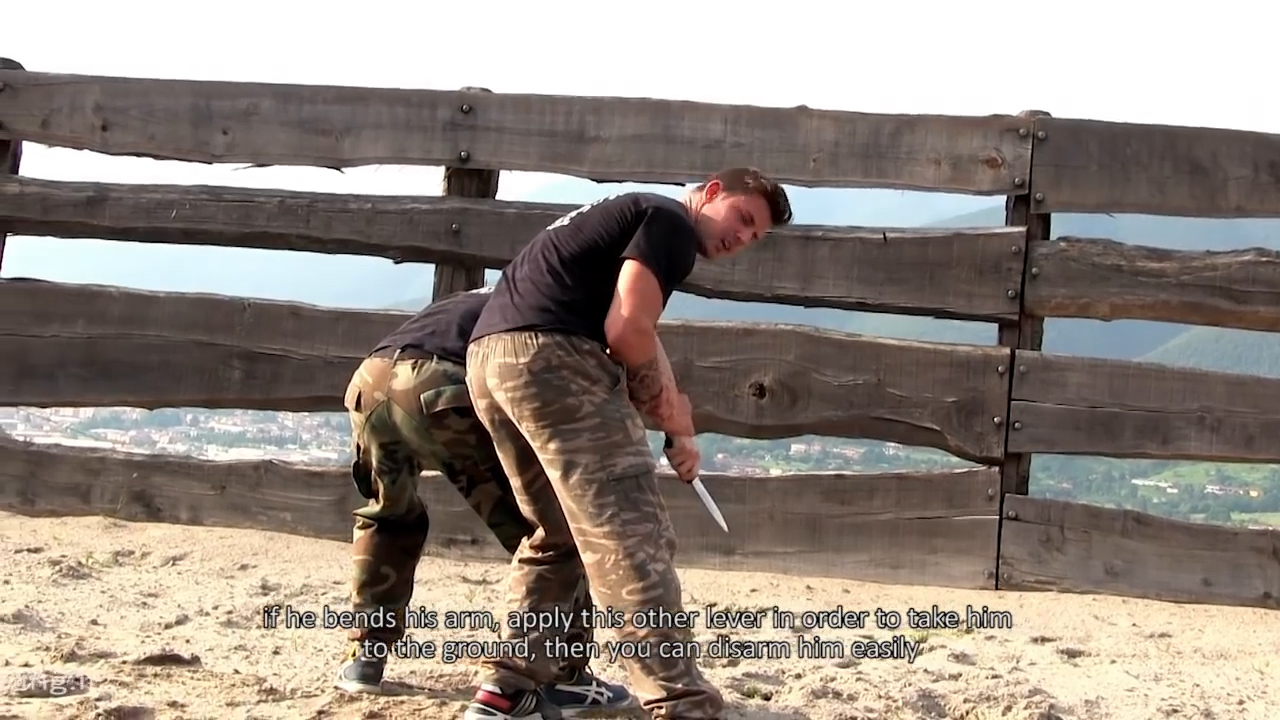knife: (664, 441, 738, 543)
